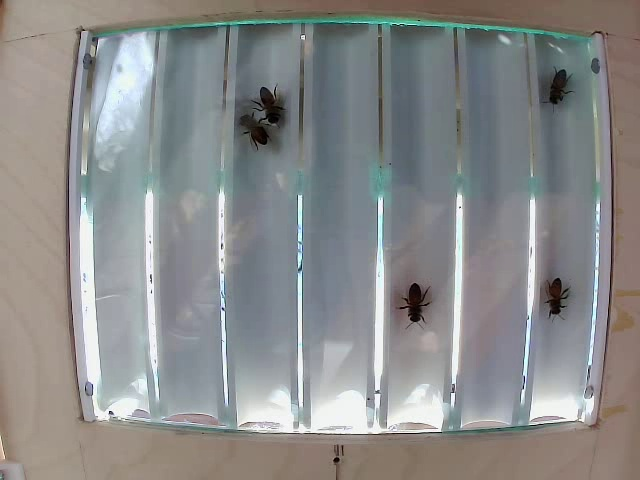bee: (535, 257, 572, 322), (262, 71, 299, 126), (402, 280, 436, 325), (236, 110, 276, 148), (543, 72, 574, 104)
